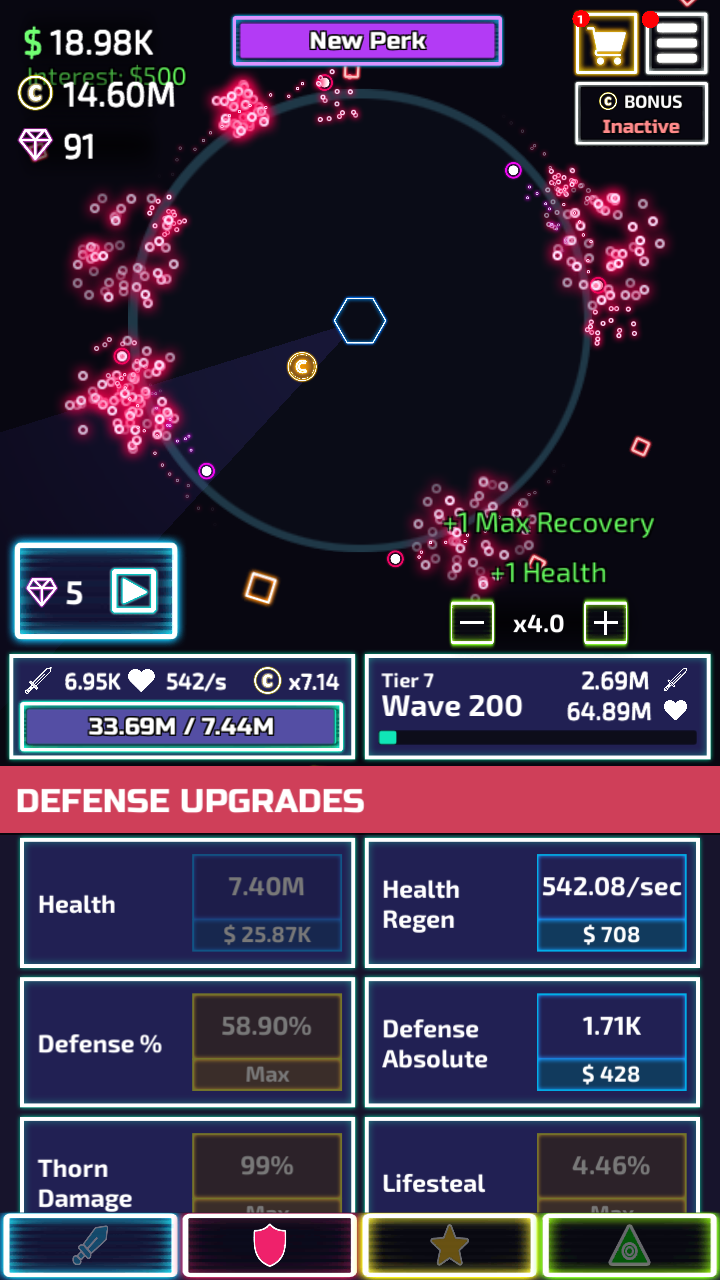B_Gem_Ad: (14, 541, 179, 638)
B_Menu_Action_Required: (638, 5, 704, 72)
B_Menu_Closed: (573, 8, 708, 74)
B_Shop_Action_Required: (566, 11, 636, 73)
B_Slot: (17, 838, 353, 960), (366, 977, 696, 1100), (367, 840, 699, 961), (21, 978, 353, 1099), (364, 1119, 696, 1209), (20, 1120, 348, 1210)
B_Slot_Button: (532, 856, 689, 953), (188, 859, 346, 955), (532, 998, 687, 1092), (189, 999, 343, 1090), (533, 1136, 688, 1209), (188, 1135, 341, 1208)
B_Slot_Label: (368, 1009, 506, 1080), (24, 1149, 146, 1214), (29, 1022, 173, 1072), (371, 869, 473, 936), (369, 1155, 502, 1204), (26, 879, 139, 927)
B_Slot_Maxed: (185, 995, 345, 1094), (531, 1135, 689, 1209), (185, 1135, 340, 1208)
B_Slot_Price: (206, 918, 328, 948), (562, 1056, 648, 1092), (566, 917, 650, 953)
B_Slot_TooExpensive: (190, 860, 347, 956)
B_Slot_Value: (538, 867, 682, 907), (549, 1143, 668, 1184), (204, 1007, 326, 1044), (207, 866, 320, 905), (556, 1005, 656, 1045), (212, 1147, 311, 1184)
B_Tab_Defense: (2, 768, 718, 835)
